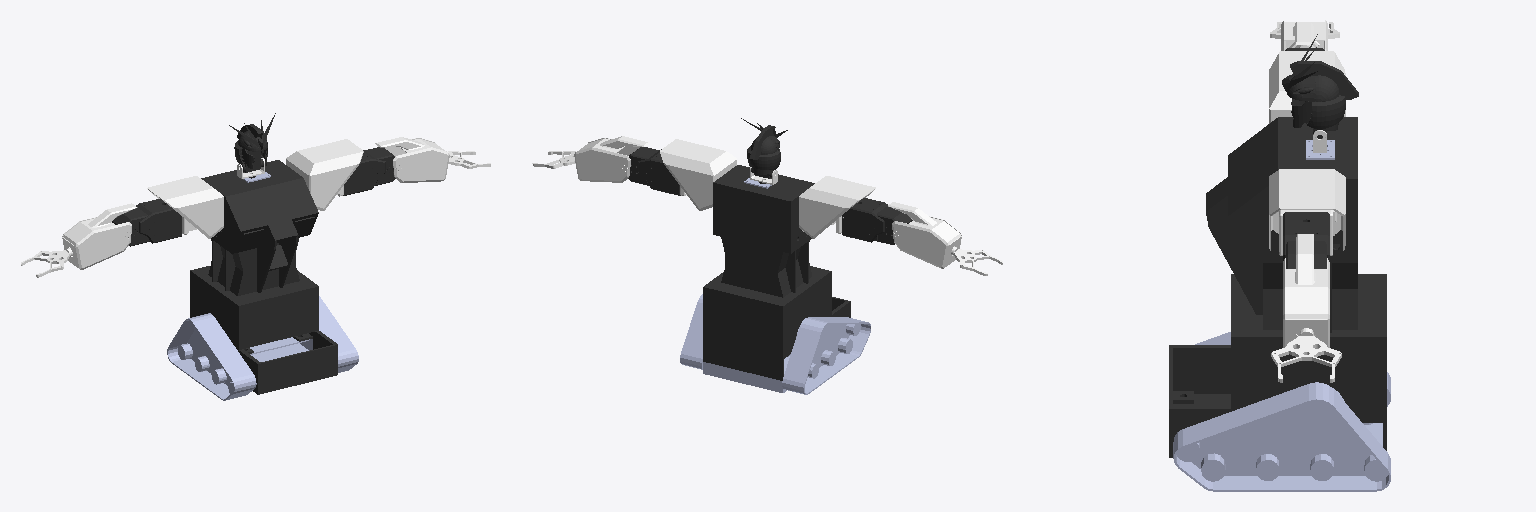
The robot description file, URDF, robot "ProjectAliceMK1":
<robot
  name="ProjectAliceMK1">
  <link
    name="base_link">
    <inertial>
      <origin
        xyz="0.000119195375087156 -0.0157789044656495 0.0411895333653365"
        rpy="0 0 0" />
      <mass
        value="2.66643858728005" />
      <inertia
        ixx="0.0172055976249923"
        ixy="5.57614137837625E-06"
        ixz="2.25059266662667E-05"
        iyy="0.0255572375396939"
        iyz="-0.000501645042012258"
        izz="0.0336808754037521" />
    </inertial>
    <visual>
      <origin
        xyz="0 0 0"
        rpy="0 0 0" />
      <geometry>
        <mesh
          filename="package://ProjectAliceMK1/meshes/base_link.STL" />
      </geometry>
      <material
        name="">
        <color
          rgba="0.792156862745098 0.819607843137255 0.933333333333333 1" />
      </material>
    </visual>
    <collision>
      <origin
        xyz="0 0 0"
        rpy="0 0 0" />
      <geometry>
        <mesh
          filename="package://ProjectAliceMK1/meshes/base_link.STL" />
      </geometry>
    </collision>
  </link>
  <link
    name="BODY">
    <inertial>
      <origin
        xyz="0.0100846161931705 -0.0244524697378098 -0.178418043801631"
        rpy="0 0 0" />
      <mass
        value="3.16681255522397" />
      <inertia
        ixx="0.0731477275267557"
        ixy="9.23200861109144E-06"
        ixz="5.22579586074346E-05"
        iyy="0.0701974945201329"
        iyz="0.00507336235001403"
        izz="0.0323710637312173" />
    </inertial>
    <visual>
      <origin
        xyz="0 0 0"
        rpy="0 0 0" />
      <geometry>
        <mesh
          filename="package://ProjectAliceMK1/meshes/BODY.STL" />
      </geometry>
      <material
        name="">
        <color
          rgba="0.250980392156863 0.250980392156863 0.250980392156863 1" />
      </material>
    </visual>
    <collision>
      <origin
        xyz="0 0 0"
        rpy="0 0 0" />
      <geometry>
        <mesh
          filename="package://ProjectAliceMK1/meshes/BODY.STL" />
      </geometry>
    </collision>
  </link>
  <joint
    name="B"
    type="fixed">
    <origin
      xyz="-0.0100000000000002 -0.002 0.413"
      rpy="-6.12303176911189E-17 0 0" />
    <parent
      link="base_link" />
    <child
      link="BODY" />
    <axis
      xyz="0 0 0" />
  </joint>
  <link
    name="N">
    <inertial>
      <origin
        xyz="5.40128115195057E-17 0.00829896676041131 1.73472347597681E-18"
        rpy="0 0 0" />
      <mass
        value="0.00660647120272481" />
      <inertia
        ixx="7.92081592604671E-07"
        ixy="1.07954353230802E-21"
        ixz="-1.03139203193876E-21"
        iyy="3.86470504032498E-06"
        iyz="2.59037197061517E-22"
        izz="4.20424141191177E-06" />
    </inertial>
    <visual>
      <origin
        xyz="0 0 0"
        rpy="0 0 0" />
      <geometry>
        <mesh
          filename="package://ProjectAliceMK1/meshes/N.STL" />
      </geometry>
      <material
        name="">
        <color
          rgba="1 1 1 1" />
      </material>
    </visual>
    <collision>
      <origin
        xyz="0 0 0"
        rpy="0 0 0" />
      <geometry>
        <mesh
          filename="package://ProjectAliceMK1/meshes/N.STL" />
      </geometry>
    </collision>
  </link>
  <joint
    name="NB"
    type="revolute">
    <origin
      xyz="0.01 0.01 0.047"
      rpy="1.5708 0 0" />
    <parent
      link="BODY" />
    <child
      link="N" />
    <axis
      xyz="0 -1 0" />
    <limit
      lower="-1.7"
      upper="1.7"
      effort="10"
      velocity="1" />
    <dynamics
      damping="1"
      friction="1" />
    <safety_controller
      soft_upper="1.5"
      soft_lower="-1.5"
      k_velocity="0" />
  </joint>
  <link
    name="H">
    <inertial>
      <origin
        xyz="0.0380827981826153 0.00833340246122224 0.000120029062414235"
        rpy="0 0 0" />
      <mass
        value="0.122862182423399" />
      <inertia
        ixx="8.41824081464364E-05"
        ixy="2.3903839861589E-05"
        ixz="-6.09680243579906E-07"
        iyy="0.000121968415687599"
        iyz="-1.5307577160849E-07"
        izz="0.000135071955696669" />
    </inertial>
    <visual>
      <origin
        xyz="0 0 0"
        rpy="0 0 0" />
      <geometry>
        <mesh
          filename="package://ProjectAliceMK1/meshes/H.STL" />
      </geometry>
      <material
        name="">
        <color
          rgba="0.250980392156863 0.250980392156863 0.250980392156863 1" />
      </material>
    </visual>
    <collision>
      <origin
        xyz="0 0 0"
        rpy="0 0 0" />
      <geometry>
        <mesh
          filename="package://ProjectAliceMK1/meshes/H.STL" />
      </geometry>
    </collision>
  </link>
  <joint
    name="HN"
    type="revolute">
    <origin
      xyz="0 0.023 0"
      rpy="1.5708 0.25247 1.5708" />
    <parent
      link="N" />
    <child
      link="H" />
    <axis
      xyz="0 0 -1" />
    <limit
      lower="-1.7"
      upper="1.7"
      effort="10"
      velocity="1" />
    <dynamics
      damping="1"
      friction="1" />
    <safety_controller
      soft_upper="1.5"
      soft_lower="-1.5"
      k_velocity="0" />
  </joint>
  <link
    name="L">
    <inertial>
      <origin
        xyz="0.00312311894777987 0.0127583114507618 0.0430807753239107"
        rpy="0 0 0" />
      <mass
        value="0.280848435262368" />
      <inertia
        ixx="0.000522892747527594"
        ixy="-1.21682332844369E-05"
        ixz="-3.74729730481462E-06"
        iyy="0.000560891896611284"
        iyz="0.00010641144224637"
        izz="0.000485037776585921" />
    </inertial>
    <visual>
      <origin
        xyz="0 0 0"
        rpy="0 0 0" />
      <geometry>
        <mesh
          filename="package://ProjectAliceMK1/meshes/L.STL" />
      </geometry>
      <material
        name="">
        <color
          rgba="1 1 1 1" />
      </material>
    </visual>
    <collision>
      <origin
        xyz="0 0 0"
        rpy="0 0 0" />
      <geometry>
        <mesh
          filename="package://ProjectAliceMK1/meshes/L.STL" />
      </geometry>
    </collision>
  </link>
  <joint
    name="LB"
    type="revolute">
    <origin
      xyz="0.118 -0.008 0.002"
      rpy="1.5708 0 1.5708" />
    <parent
      link="BODY" />
    <child
      link="L" />
    <axis
      xyz="0 0 -1" />
    <limit
      lower="-1.7"
      upper="1.7"
      effort="10"
      velocity="1" />
    <dynamics
      damping="1"
      friction="1" />
    <safety_controller
      soft_upper="1.5"
      soft_lower="-1.5"
      k_velocity="0" />
  </joint>
  <link
    name="L1">
    <inertial>
      <origin
        xyz="0.00707050151811589 -0.0186145980659129 0.00946712160851853"
        rpy="0 0 0" />
      <mass
        value="0.0492176310374413" />
      <inertia
        ixx="4.49552307430234E-05"
        ixy="4.42867317337908E-06"
        ixz="-2.55765696666338E-06"
        iyy="5.29152638339264E-05"
        iyz="6.92249023439621E-06"
        izz="3.41163786483833E-05" />
    </inertial>
    <visual>
      <origin
        xyz="0 0 0"
        rpy="0 0 0" />
      <geometry>
        <mesh
          filename="package://ProjectAliceMK1/meshes/L1.STL" />
      </geometry>
      <material
        name="">
        <color
          rgba="1 1 1 1" />
      </material>
    </visual>
    <collision>
      <origin
        xyz="0 0 0"
        rpy="0 0 0" />
      <geometry>
        <mesh
          filename="package://ProjectAliceMK1/meshes/L1.STL" />
      </geometry>
    </collision>
  </link>
  <joint
    name="L1L"
    type="revolute">
    <origin
      xyz="0 0.0002 0.062"
      rpy="-1.5708 0 1.5708" />
    <parent
      link="L" />
    <child
      link="L1" />
    <axis
      xyz="0 0 -1" />
    <limit
      lower="-1.7"
      upper="1.7"
      effort="10"
      velocity="1" />
    <dynamics
      damping="1"
      friction="1" />
    <safety_controller
      soft_upper="1.5"
      soft_lower="-1.5"
      k_velocity="0" />
  </joint>
  <link
    name="L2">
    <inertial>
      <origin
        xyz="0.00130828326676907 -0.000334134693319055 -0.0693381806311685"
        rpy="0 0 0" />
      <mass
        value="0.255675531321022" />
      <inertia
        ixx="0.000669217279062944"
        ixy="6.76554218363837E-06"
        ixz="1.93938917825187E-05"
        iyy="0.000676544781503653"
        iyz="1.24121231752883E-06"
        izz="0.000229844399725595" />
    </inertial>
    <visual>
      <origin
        xyz="0 0 0"
        rpy="0 0 0" />
      <geometry>
        <mesh
          filename="package://ProjectAliceMK1/meshes/L2.STL" />
      </geometry>
      <material
        name="">
        <color
          rgba="0.250980392156863 0.250980392156863 0.250980392156863 1" />
      </material>
    </visual>
    <collision>
      <origin
        xyz="0 0 0"
        rpy="0 0 0" />
      <geometry>
        <mesh
          filename="package://ProjectAliceMK1/meshes/L2.STL" />
      </geometry>
    </collision>
  </link>
  <joint
    name="L2L1"
    type="revolute">
    <origin
      xyz="0 -0.035 0.0009"
      rpy="1.5708 0.7854 3.1416" />
    <parent
      link="L1" />
    <child
      link="L2" />
    <axis
      xyz="0 0 1" />
    <limit
      lower="-1.7"
      upper="1.7"
      effort="10"
      velocity="1" />
    <dynamics
      damping="1"
      friction="1" />
    <safety_controller
      soft_upper="1.5"
      soft_lower="-1.5"
      k_velocity="0" />
  </joint>
  <link
    name="L3">
    <inertial>
      <origin
        xyz="0.00126585983548333 -0.0763445185281479 -0.00351247676100125"
        rpy="0 0 0" />
      <mass
        value="0.190673764693956" />
      <inertia
        ixx="0.000443832925879756"
        ixy="-7.87621827706865E-06"
        ixz="3.69291754118392E-06"
        iyy="0.000220493922949133"
        iyz="-6.12819117394335E-05"
        izz="0.000409027623066019" />
    </inertial>
    <visual>
      <origin
        xyz="0 0 0"
        rpy="0 0 0" />
      <geometry>
        <mesh
          filename="package://ProjectAliceMK1/meshes/L3.STL" />
      </geometry>
      <material
        name="">
        <color
          rgba="1 1 1 1" />
      </material>
    </visual>
    <collision>
      <origin
        xyz="0 0 0"
        rpy="0 0 0" />
      <geometry>
        <mesh
          filename="package://ProjectAliceMK1/meshes/L3.STL" />
      </geometry>
    </collision>
  </link>
  <joint
    name="L3L2"
    type="revolute">
    <origin
      xyz="2.0711E-05 2.0711E-05 -0.143"
      rpy="1.383 -2.7326E-09 2.3562" />
    <parent
      link="L2" />
    <child
      link="L3" />
    <axis
      xyz="-1 0 0" />
    <limit
      lower="-1.7"
      upper="1.7"
      effort="10"
      velocity="1" />
    <dynamics
      damping="1"
      friction="1" />
    <safety_controller
      soft_upper="1.5"
      soft_lower="-1.5"
      k_velocity="0" />
  </joint>
  <link
    name="L4">
    <inertial>
      <origin
        xyz="3.42597254323791E-05 0.00299998785502453 -0.0356516138528017"
        rpy="0 0 0" />
      <mass
        value="0.0188751307919504" />
      <inertia
        ixx="1.10083038963009E-05"
        ixy="-7.88701220663075E-15"
        ixz="-2.3172766256451E-08"
        iyy="2.25675284695192E-05"
        iyz="3.6941718692419E-12"
        izz="1.17139443809999E-05" />
    </inertial>
    <visual>
      <origin
        xyz="0 0 0"
        rpy="0 0 0" />
      <geometry>
        <mesh
          filename="package://ProjectAliceMK1/meshes/L4.STL" />
      </geometry>
      <material
        name="">
        <color
          rgba="1 1 1 1" />
      </material>
    </visual>
    <collision>
      <origin
        xyz="0 0 0"
        rpy="0 0 0" />
      <geometry>
        <mesh
          filename="package://ProjectAliceMK1/meshes/L4.STL" />
      </geometry>
    </collision>
  </link>
  <joint
    name="L4L3"
    type="fixed">
    <origin
      xyz="-0.000365685483603639 -0.136999999999917 -0.00299999999509093"
      rpy="1.57079666709171 -1.46392709103127E-08 3.1415926392076" />
    <parent
      link="L3" />
    <child
      link="L4" />
    <axis
      xyz="0 0 0" />
  </joint>
  <link
    name="R">
    <inertial>
      <origin
        xyz="0.0024391244200099 0.0125973717062474 -0.0430807753184091"
        rpy="0 0 0" />
      <mass
        value="0.280848435355338" />
      <inertia
        ixx="0.000524038816363074"
        ixy="-9.7631754435996E-06"
        ixz="4.5955271091978E-06"
        iyy="0.000560633999402217"
        iyz="-0.000106211858661981"
        izz="0.000485925948084733" />
    </inertial>
    <visual>
      <origin
        xyz="0 0 0"
        rpy="0 0 0" />
      <geometry>
        <mesh
          filename="package://ProjectAliceMK1/meshes/R.STL" />
      </geometry>
      <material
        name="">
        <color
          rgba="1 1 1 1" />
      </material>
    </visual>
    <collision>
      <origin
        xyz="0 0 0"
        rpy="0 0 0" />
      <geometry>
        <mesh
          filename="package://ProjectAliceMK1/meshes/R.STL" />
      </geometry>
    </collision>
  </link>
  <joint
    name="RB"
    type="revolute">
    <origin
      xyz="-0.098 -0.008 0.002"
      rpy="1.5708 0 1.5708" />
    <parent
      link="BODY" />
    <child
      link="R" />
    <axis
      xyz="0 0 -1" />
    <limit
      lower="-1.7"
      upper="1.7"
      effort="10"
      velocity="1" />
    <dynamics
      damping="1"
      friction="1" />
    <safety_controller
      soft_upper="1.5"
      soft_lower="-1.5"
      k_velocity="0" />
  </joint>
  <link
    name="R1">
    <inertial>
      <origin
        xyz="-0.00707050153892663 -0.0186145980816828 0.0111671216284073"
        rpy="0 0 0" />
      <mass
        value="0.0492176310137726" />
      <inertia
        ixx="4.49543359260989E-05"
        ixy="-4.42867320487169E-06"
        ixz="2.55765693477684E-06"
        iyy="5.2914369075321E-05"
        iyz="6.92249020202042E-06"
        izz="3.41163786534899E-05" />
    </inertial>
    <visual>
      <origin
        xyz="0 0 0"
        rpy="0 0 0" />
      <geometry>
        <mesh
          filename="package://ProjectAliceMK1/meshes/R1.STL" />
      </geometry>
      <material
        name="">
        <color
          rgba="1 1 1 1" />
      </material>
    </visual>
    <collision>
      <origin
        xyz="0 0 0"
        rpy="0 0 0" />
      <geometry>
        <mesh
          filename="package://ProjectAliceMK1/meshes/R1.STL" />
      </geometry>
    </collision>
  </link>
  <joint
    name="R1R"
    type="revolute">
    <origin
      xyz="0 -0.0002 -0.062"
      rpy="1.5708 0 -1.5708" />
    <parent
      link="R" />
    <child
      link="R1" />
    <axis
      xyz="0 0 -1" />
    <limit
      lower="-1.7"
      upper="1.7"
      effort="10"
      velocity="1" />
    <dynamics
      damping="1"
      friction="1" />
    <safety_controller
      soft_upper="1.5"
      soft_lower="-1.5"
      k_velocity="0" />
  </joint>
  <link
    name="R2">
    <inertial>
      <origin
        xyz="0.00124996485939038 -5.11550339180045E-05 -0.0693381704739929"
        rpy="0 0 0" />
      <mass
        value="0.255675602662194" />
      <inertia
        ixx="0.00066922035414642"
        ixy="-6.63681424133844E-06"
        ixz="2.00927317922425E-05"
        iyy="0.000676584942890874"
        iyz="-1.34989430799816E-07"
        izz="0.000229887446950928" />
    </inertial>
    <visual>
      <origin
        xyz="0 0 0"
        rpy="0 0 0" />
      <geometry>
        <mesh
          filename="package://ProjectAliceMK1/meshes/R2.STL" />
      </geometry>
      <material
        name="">
        <color
          rgba="0.250980392156863 0.250980392156863 0.250980392156863 1" />
      </material>
    </visual>
    <collision>
      <origin
        xyz="0 0 0"
        rpy="0 0 0" />
      <geometry>
        <mesh
          filename="package://ProjectAliceMK1/meshes/R2.STL" />
      </geometry>
    </collision>
  </link>
  <joint
    name="R2R1"
    type="revolute">
    <origin
      xyz="0 -0.0335 0.0026"
      rpy="-1.5708 0.7854 0" />
    <parent
      link="R1" />
    <child
      link="R2" />
    <axis
      xyz="0 0 -1" />
    <limit
      lower="-1.7"
      upper="1.7"
      effort="10"
      velocity="1" />
    <dynamics
      damping="1"
      friction="1" />
    <safety_controller
      soft_upper="1.5"
      soft_lower="-1.5"
      k_velocity="0" />
  </joint>
  <link
    name="R3">
    <inertial>
      <origin
        xyz="-0.00171941326253006 -0.0763445185220598 -0.00351247673821359"
        rpy="0 0 0" />
      <mass
        value="0.190673764654408" />
      <inertia
        ixx="0.000443832925672718"
        ixy="7.87621769797846E-06"
        ixz="-3.69291715921361E-06"
        iyy="0.000220493922827271"
        iyz="-6.1281911888552E-05"
        izz="0.000409027622595689" />
    </inertial>
    <visual>
      <origin
        xyz="0 0 0"
        rpy="0 0 0" />
      <geometry>
        <mesh
          filename="package://ProjectAliceMK1/meshes/R3.STL" />
      </geometry>
      <material
        name="">
        <color
          rgba="1 1 1 1" />
      </material>
    </visual>
    <collision>
      <origin
        xyz="0 0 0"
        rpy="0 0 0" />
      <geometry>
        <mesh
          filename="package://ProjectAliceMK1/meshes/R3.STL" />
      </geometry>
    </collision>
  </link>
  <joint
    name="R3R2"
    type="revolute">
    <origin
      xyz="0.0002 -0.0002 -0.143"
      rpy="1.383 0 0.7854" />
    <parent
      link="R2" />
    <child
      link="R3" />
    <axis
      xyz="1 0 0" />
    <limit
      lower="-1.7"
      upper="1.7"
      effort="10"
      velocity="1" />
    <dynamics
      damping="1"
      friction="1" />
    <safety_controller
      soft_upper="1.5"
      soft_lower="-1.5"
      k_velocity="0" />
  </joint>
  <link
    name="R4">
    <inertial>
      <origin
        xyz="3.42602378092752E-05 -0.0102846374665 -0.034267531713011"
        rpy="0 0 0" />
      <mass
        value="0.0188751307919502" />
      <inertia
        ixx="1.10083038956365E-05"
        ixy="-8.49883923828046E-09"
        ixz="-2.15579766891869E-08"
        iyy="2.11075817011386E-05"
        iyz="3.70327023695498E-06"
        izz="1.31738911500441E-05" />
    </inertial>
    <visual>
      <origin
        xyz="0 0 0"
        rpy="0 0 0" />
      <geometry>
        <mesh
          filename="package://ProjectAliceMK1/meshes/R4.STL" />
      </geometry>
      <material
        name="">
        <color
          rgba="1 1 1 1" />
      </material>
    </visual>
    <collision>
      <origin
        xyz="0 0 0"
        rpy="0 0 0" />
      <geometry>
        <mesh
          filename="package://ProjectAliceMK1/meshes/R4.STL" />
      </geometry>
    </collision>
  </link>
  <joint
    name="R4R3"
    type="fixed">
    <origin
      xyz="-8.7868E-05 -0.137 0.003"
      rpy="-1.1953 0 0" />
    <parent
      link="R3" />
    <child
      link="R4" />
    <axis
      xyz="0 0 0" />
  </joint>
</robot>

--- Facts derived from the render (not from the file) ---
The picture shows the robot from 3 angles, left to right: view 1: azimuth 30°, elevation 25°; view 2: azimuth 150°, elevation 25°; view 3: azimuth 270°, elevation 25°; orthographic projection.
Model ProjectAliceMK1 with 14 links and 13 joints (10 revolute, 3 fixed), rooted at base_link, posed every joint at zero.
Visible links, largest first — view 1: BODY, base_link, L, R3, R, L3, R2, L2, H, R4; view 2: BODY, base_link, L, R3, R, L3, R2, L2, H, R4; view 3: BODY, base_link, L3, H, L, L2, R, L4, R3.
Boxes of the visible links, x1,y1,x2,y2 form: BODY: (190,160,337,394); base_link: (167,172,358,400); L: (286,139,363,210); R3: (62,203,137,269); R: (147,176,223,238); L3: (375,137,449,182); R2: (112,199,181,246); L2: (343,147,395,195); H: (229,113,275,172); R4: (21,249,70,277); BODY: (703,165,850,380); base_link: (680,178,870,394); L: (660,139,736,210); R3: (888,202,961,268); R: (799,176,875,238); L3: (574,136,648,182); R2: (842,198,912,244); L2: (628,147,680,195); H: (741,118,787,178); R4: (953,247,1002,275); BODY: (1169,117,1386,457); base_link: (1173,140,1390,491); L3: (1283,234,1329,348); H: (1282,34,1358,138); L: (1269,169,1345,250); L2: (1283,212,1329,268); R: (1269,51,1345,123); L4: (1271,331,1341,382); R3: (1281,20,1327,50).
Bounding box of the posed robot: 1.16 × 0.3056 × 0.601 m (x, y, z).
Meshes: 14 distinct files referenced, 14 mesh visuals loaded (14 binary STL).